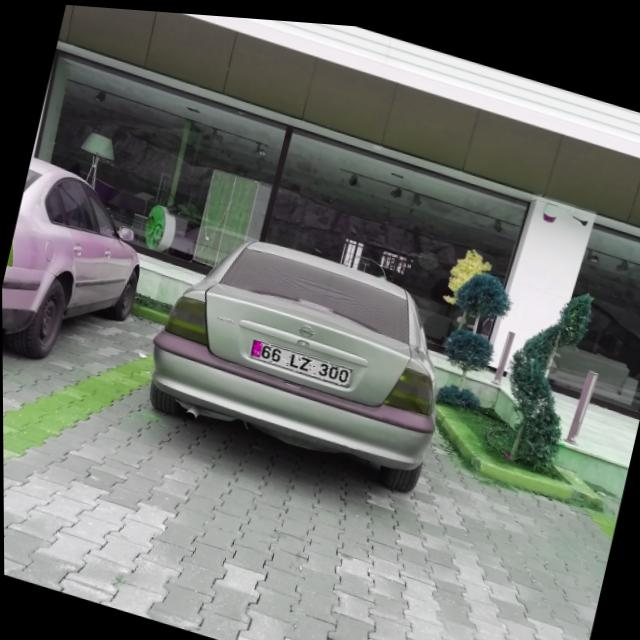license_plate: (248, 335, 353, 383)
